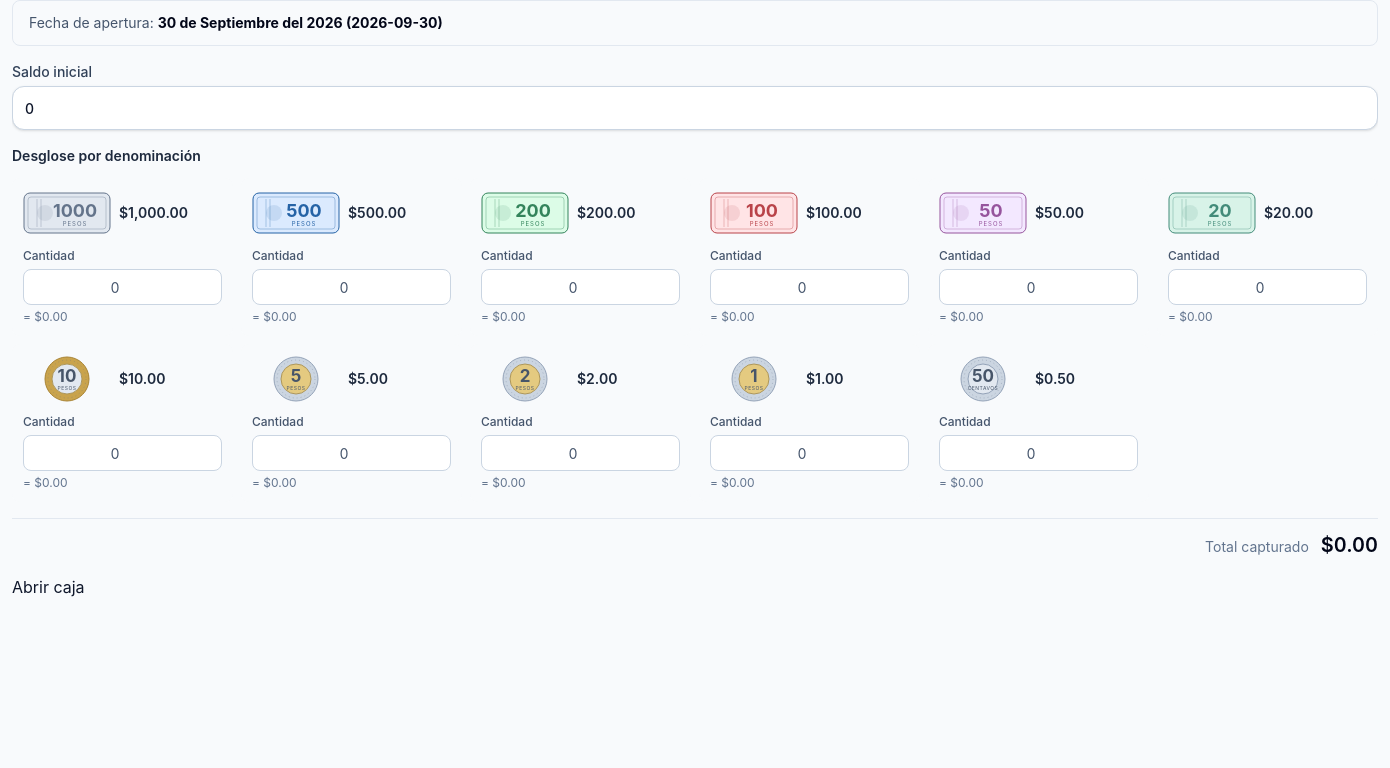
it: Formulario de apertura y cierre › oculta el cero al enfocar y lo restaura al salir sin alterar el conteo
Focus the number field named "Cantidad de $100.00". click: {"x": 810, "y": 287}
box: 710,269 -> 909,305
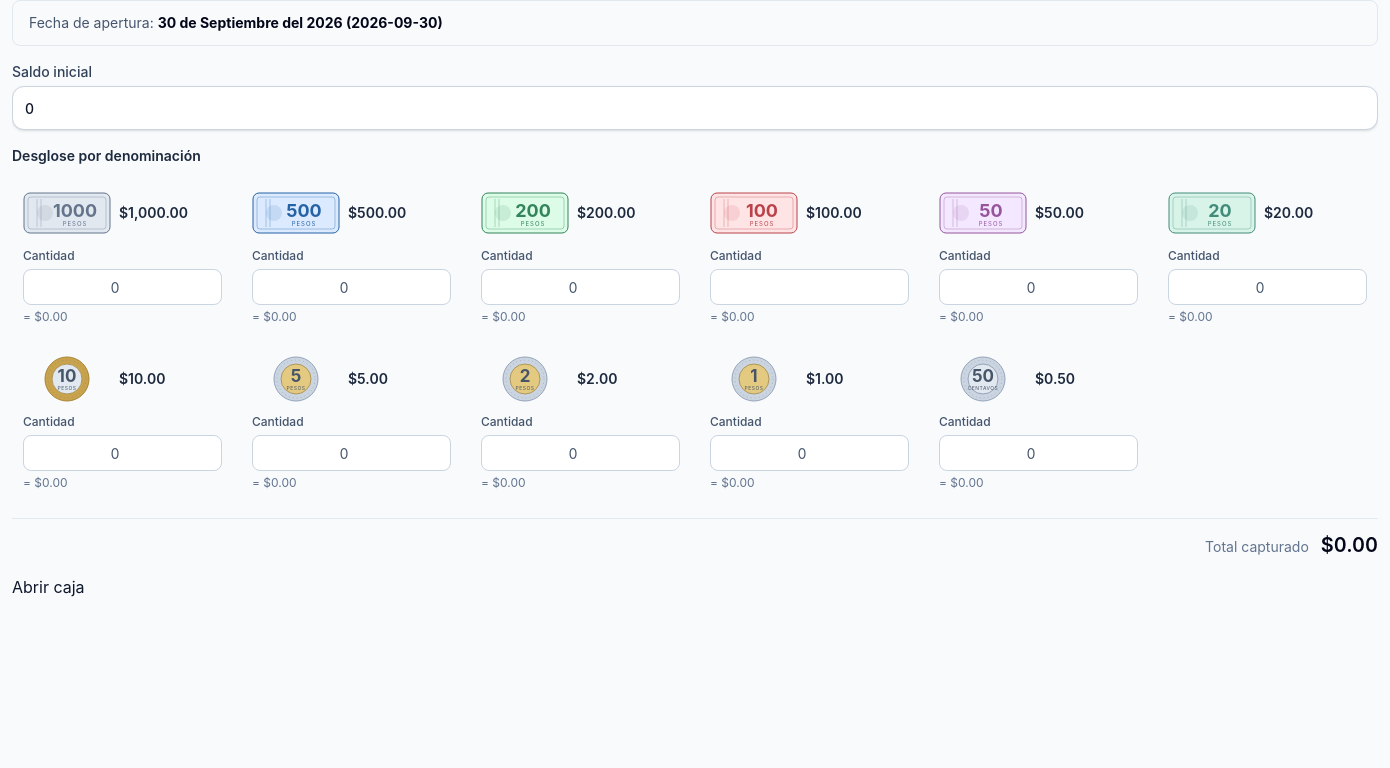
Check: the text "$0.00" is shown, box 1321,531 -> 1378,559
Check: the number field named "Cantidad de $100.00" is not empty
Leave the number field named "Cantidad de $100.00", box 710,269 -> 909,305
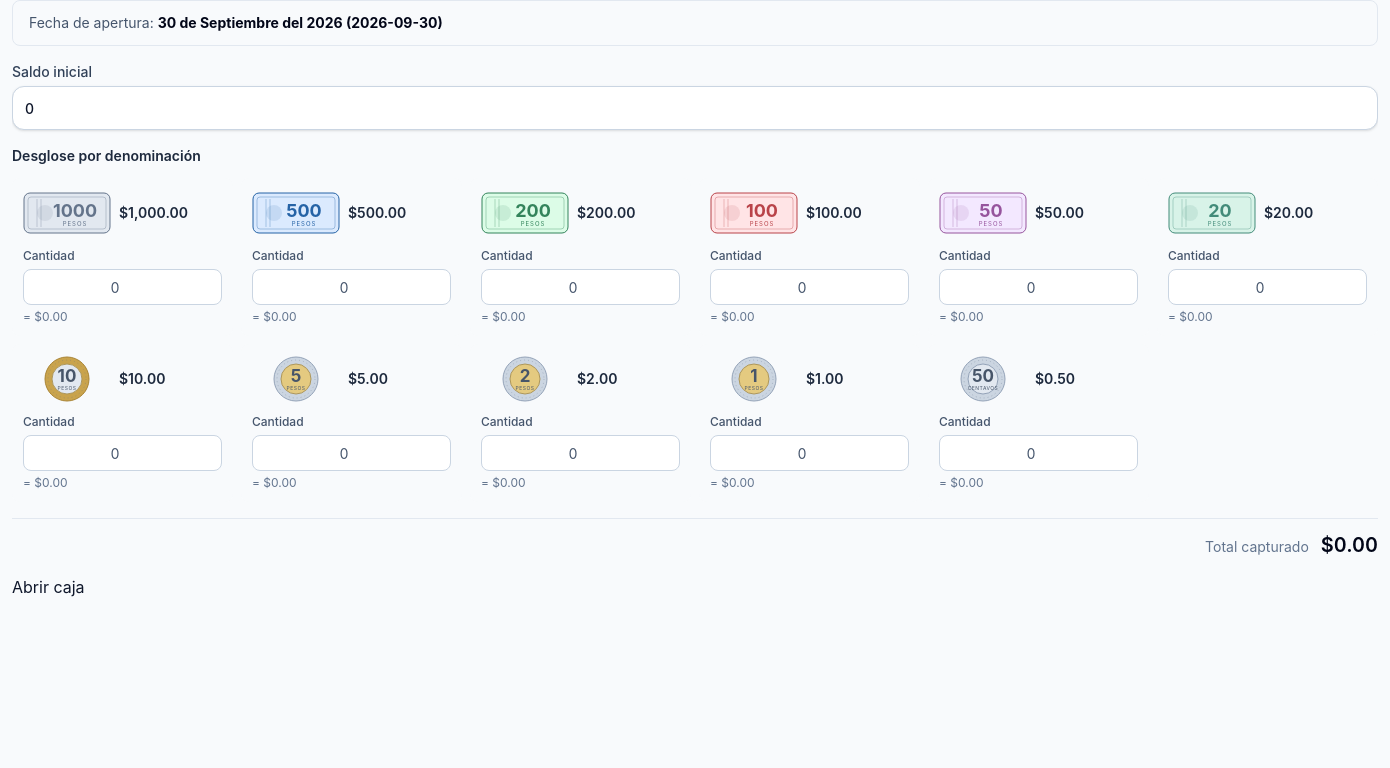
Check: the number field named "Cantidad de $100.00" holds "0"
Replace the text in the number field named "Cantidad de $100.00" with "3". click: {"x": 810, "y": 287}
box: 710,269 -> 909,305
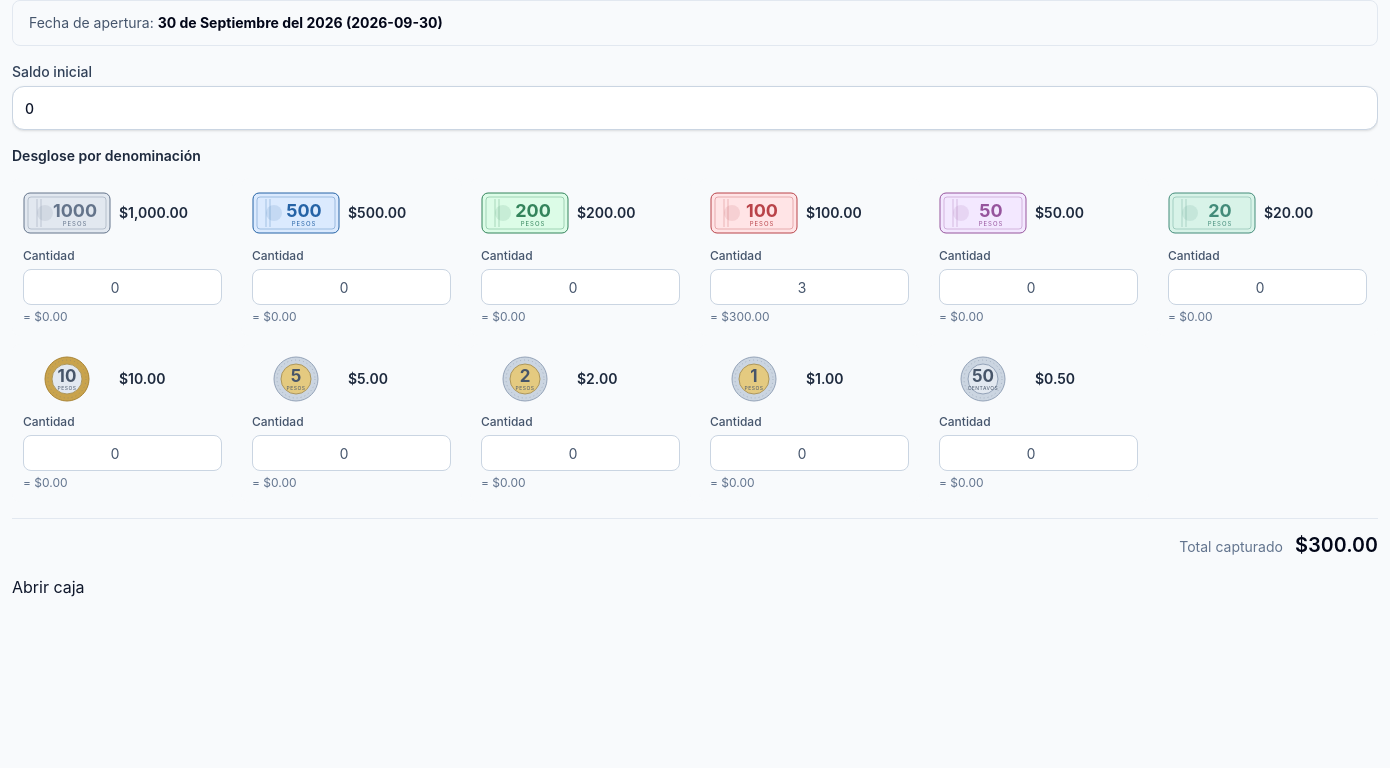
Focus the number field named "Cantidad de $100.00". click: {"x": 810, "y": 287}
box: 710,269 -> 909,305
Check: the text "$300.00" is shown, box 1295,531 -> 1378,559
Clear the number field named "Cantidad de $100.00". click: {"x": 810, "y": 287}
box: 710,269 -> 909,305
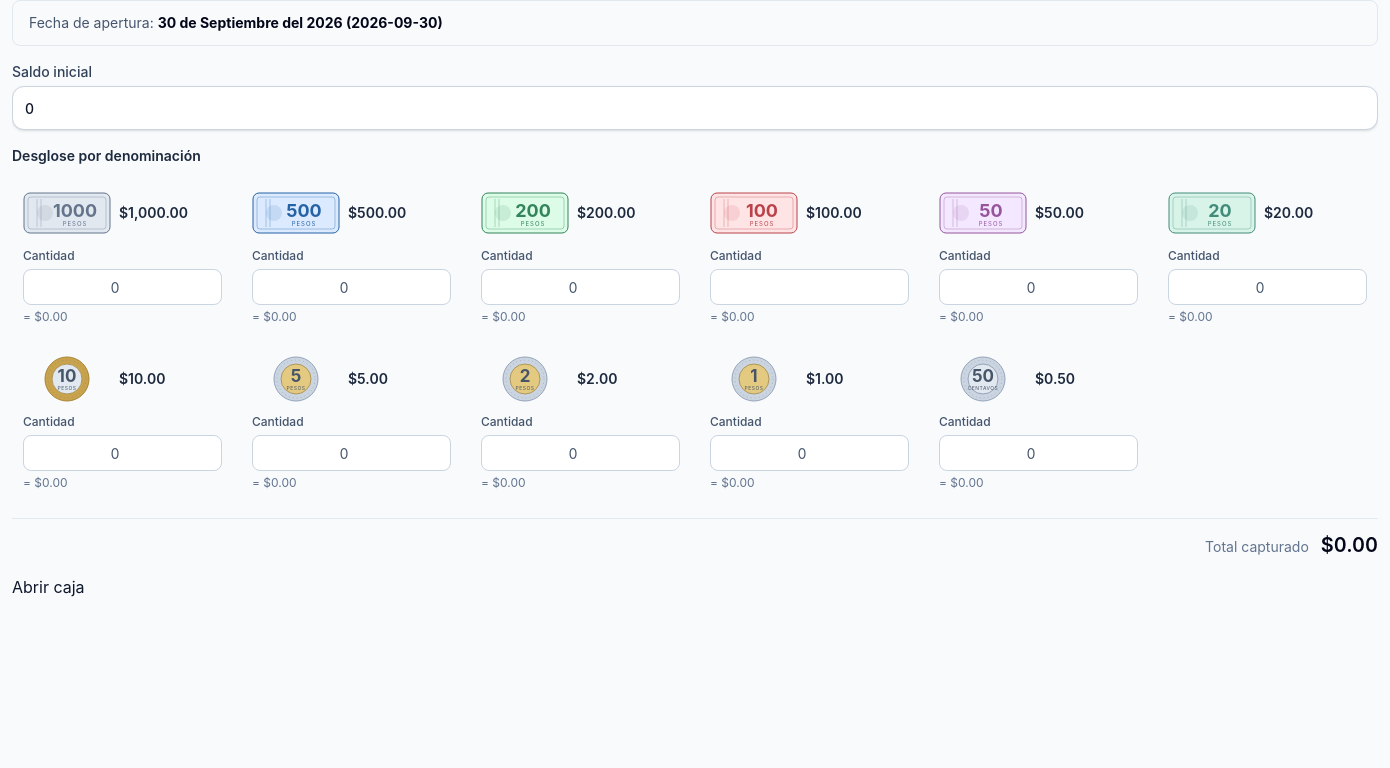
Check: the text "$0.00" is shown, box 1321,531 -> 1378,559
Leave the number field named "Cantidad de $100.00", box 710,269 -> 909,305
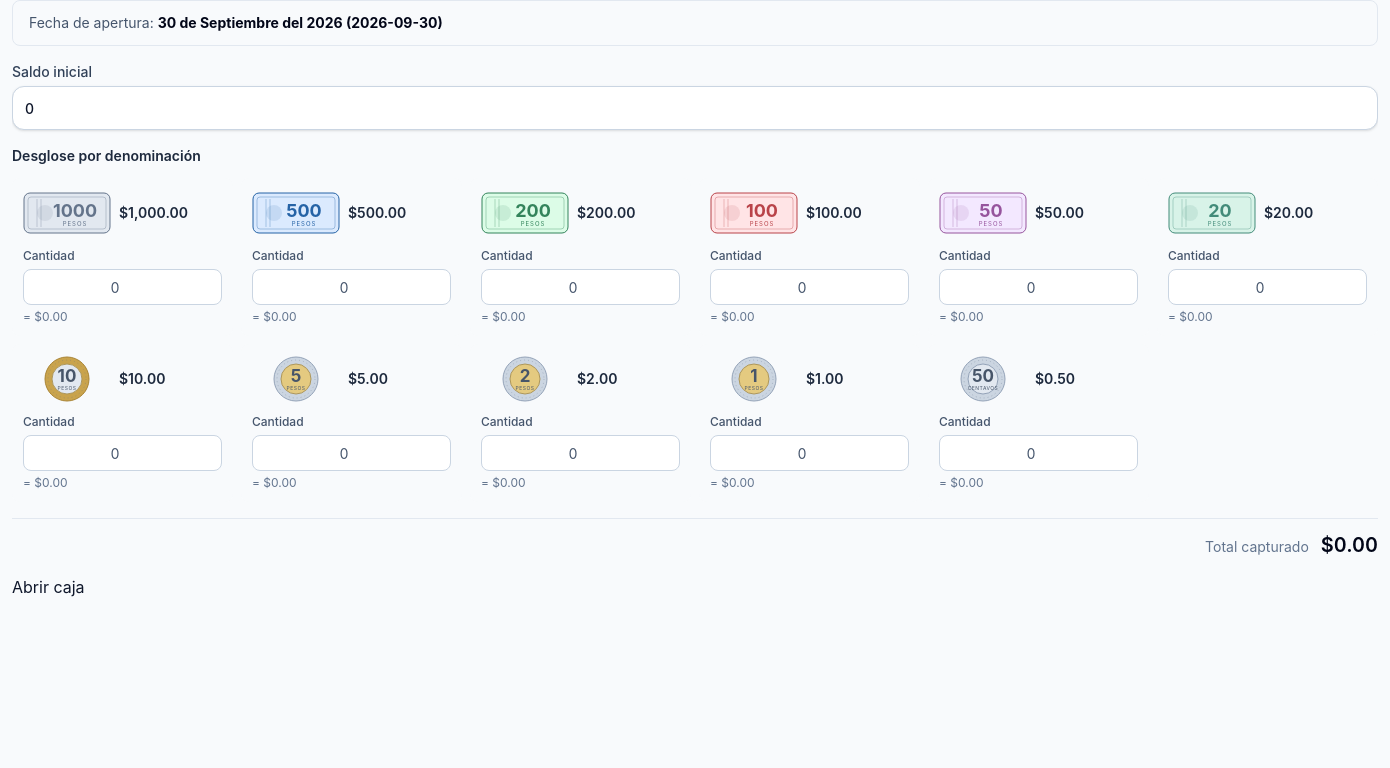
Check: the number field named "Cantidad de $100.00" holds "0", box 710,269 -> 909,305
